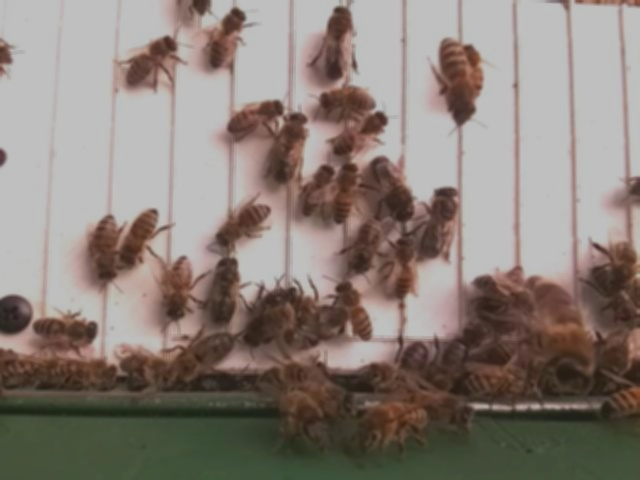Drone: (160, 329, 238, 385), (418, 183, 462, 261), (369, 154, 417, 224), (270, 110, 310, 186), (207, 255, 242, 328), (323, 3, 355, 80)
Worker: (439, 35, 474, 118), (124, 34, 178, 86), (329, 110, 389, 156), (218, 201, 274, 247), (225, 96, 289, 136), (211, 6, 249, 70), (122, 205, 160, 267), (338, 283, 376, 343), (92, 211, 122, 281), (165, 252, 195, 320), (390, 233, 420, 300), (462, 367, 533, 395), (299, 163, 335, 218), (350, 217, 382, 276), (331, 160, 360, 224), (33, 316, 100, 343), (320, 84, 378, 114)
